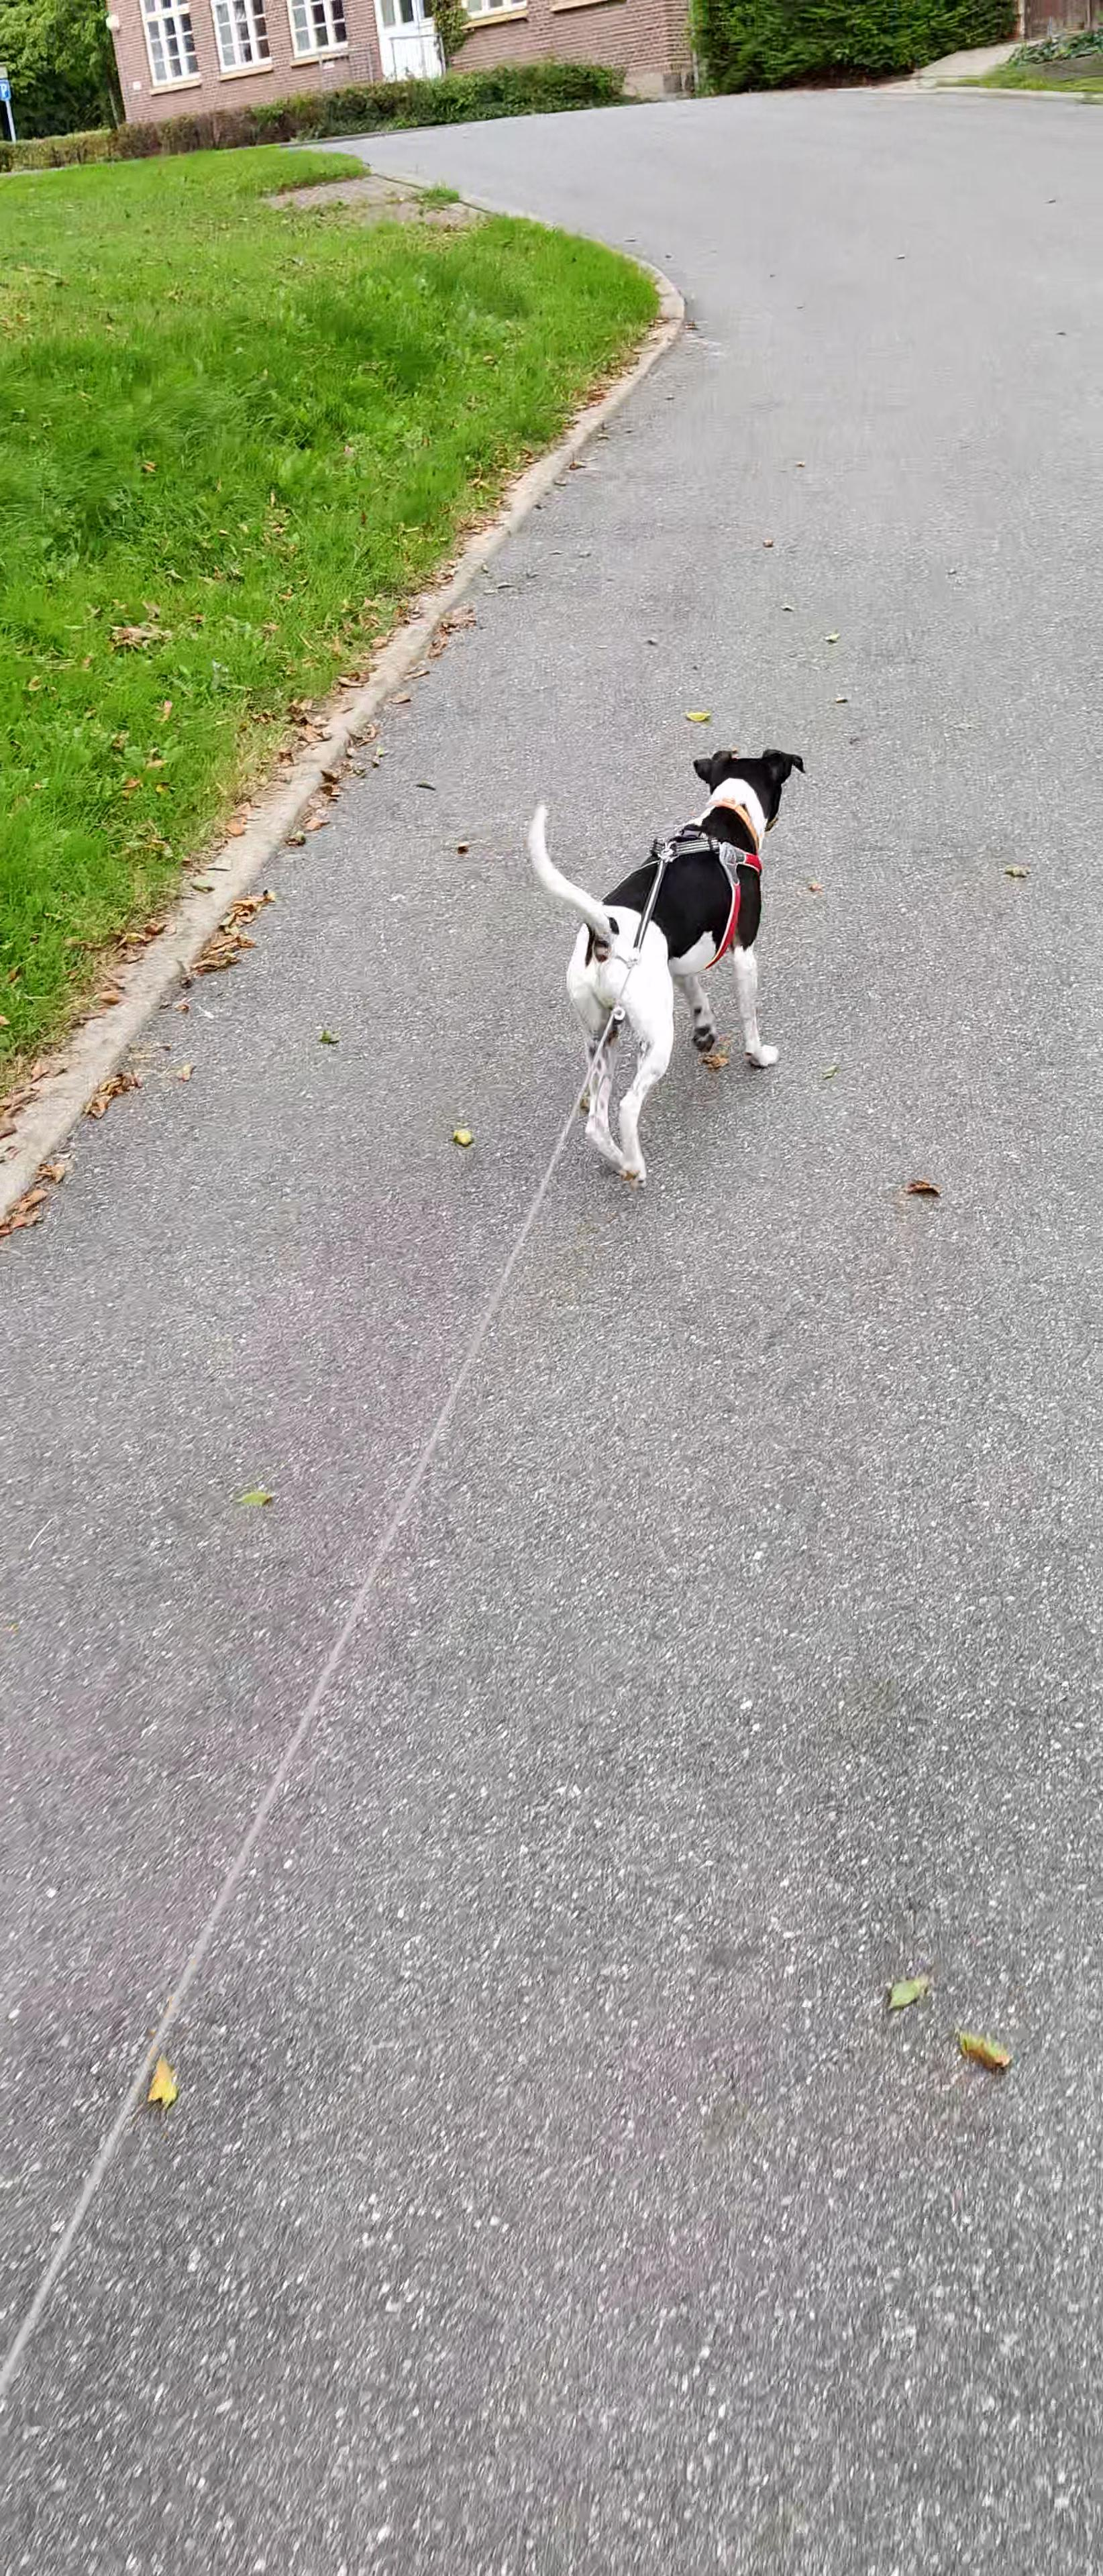Dog: (508, 728, 824, 1204)
